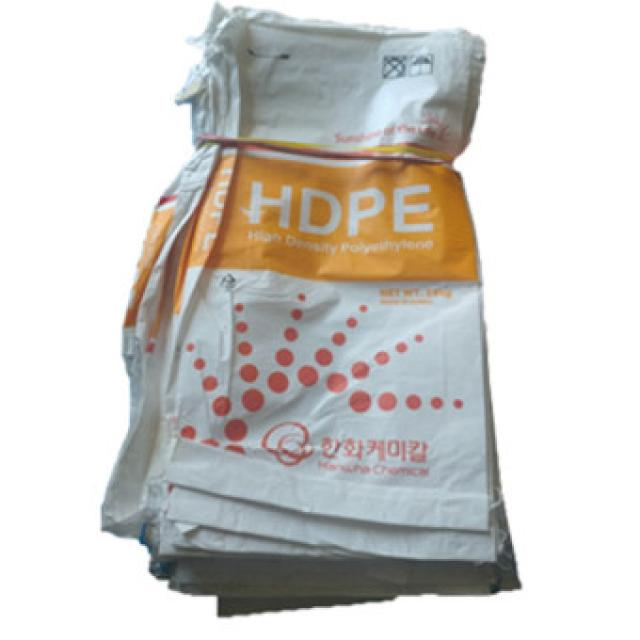PP bag: (96, 2, 548, 618)
